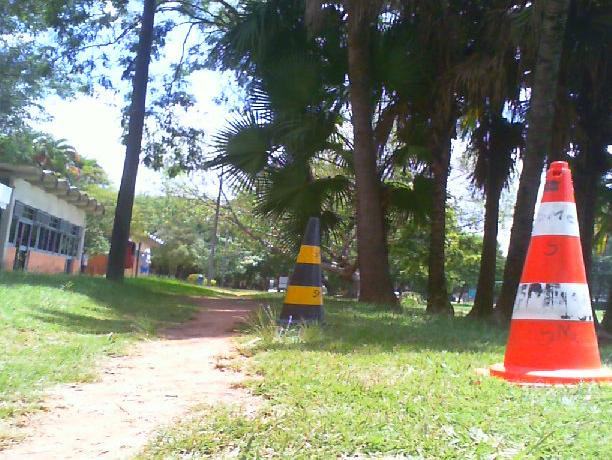0 cone: (474, 162, 612, 388), (277, 218, 329, 329)
